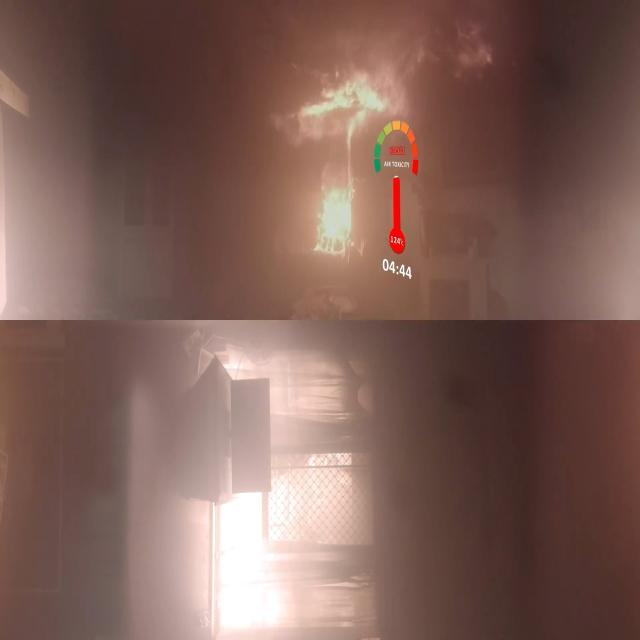Fire: (280, 53, 440, 300)
